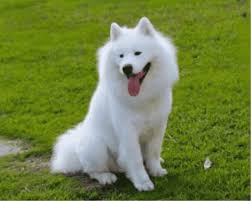dog: (116, 49, 155, 90)
